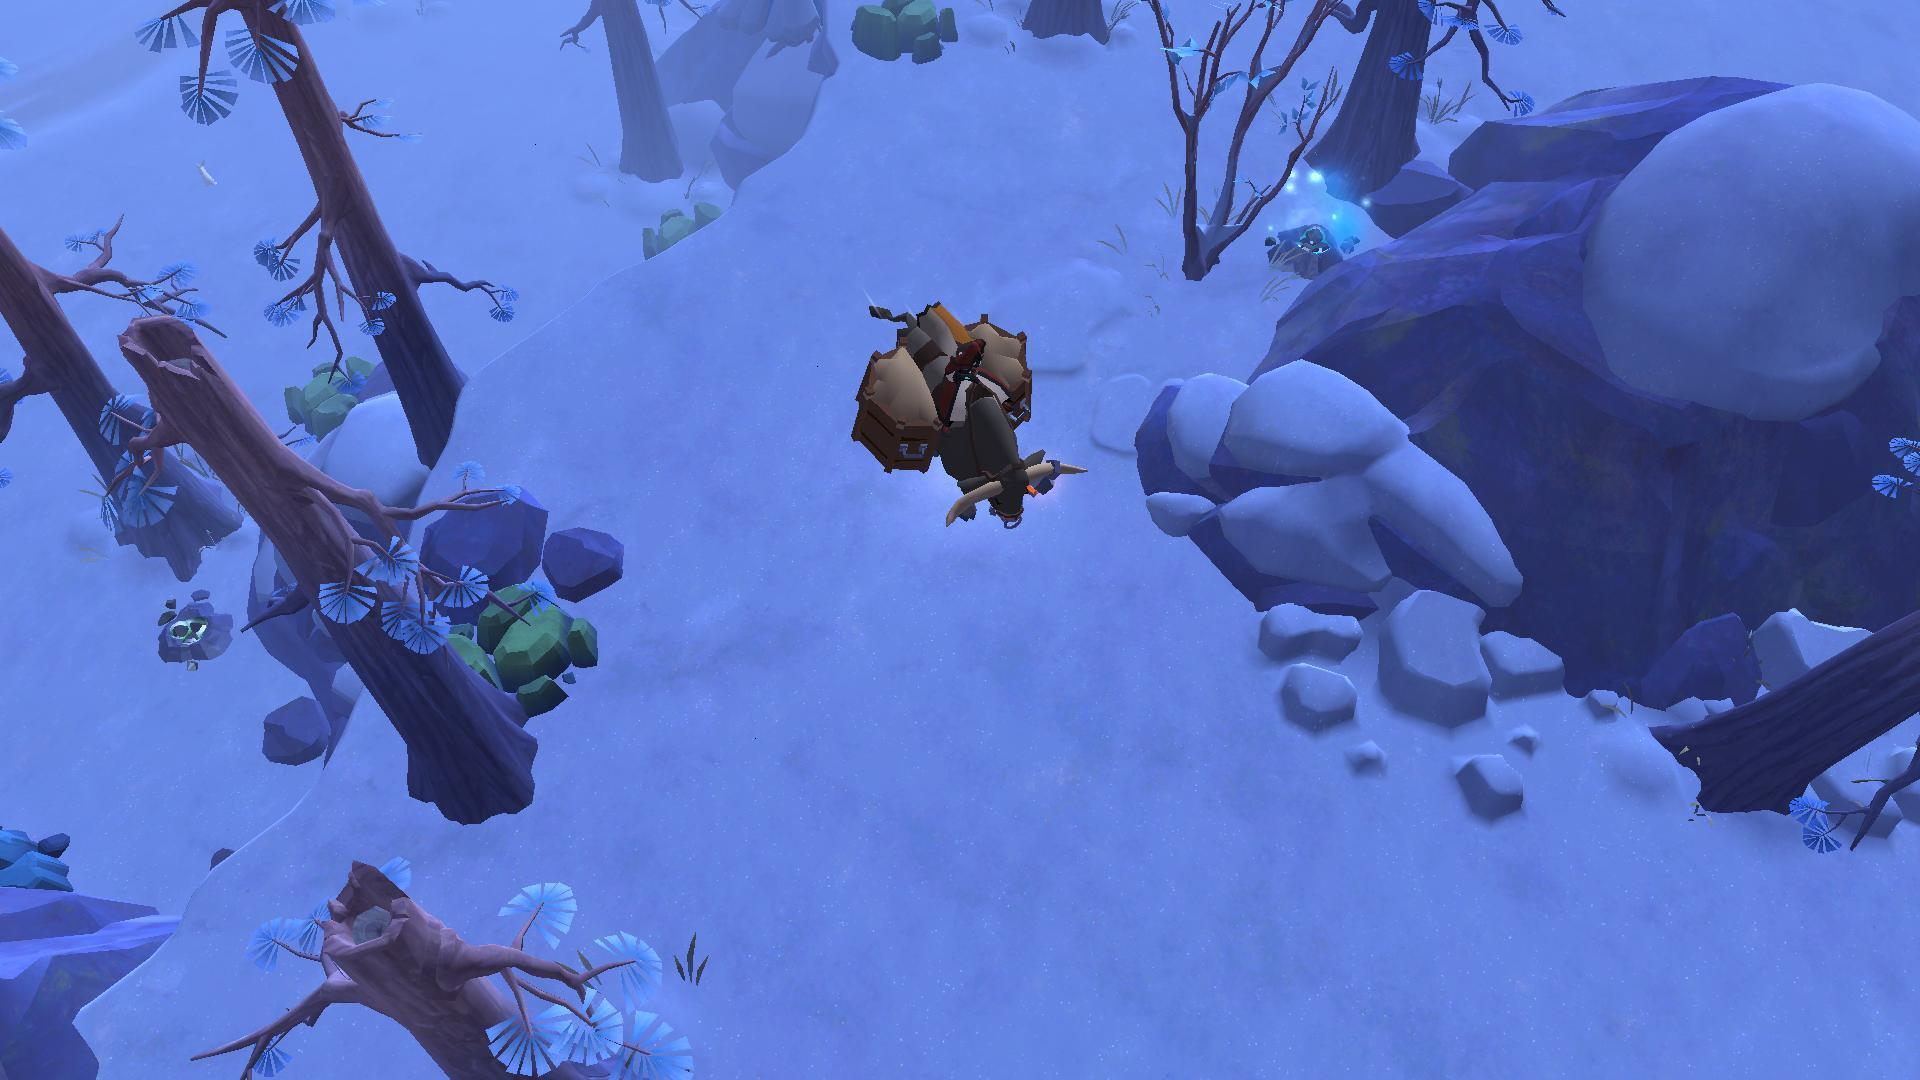rock_t3: (455, 579, 603, 720), (276, 348, 381, 436), (840, 0, 963, 70), (644, 193, 732, 276)
